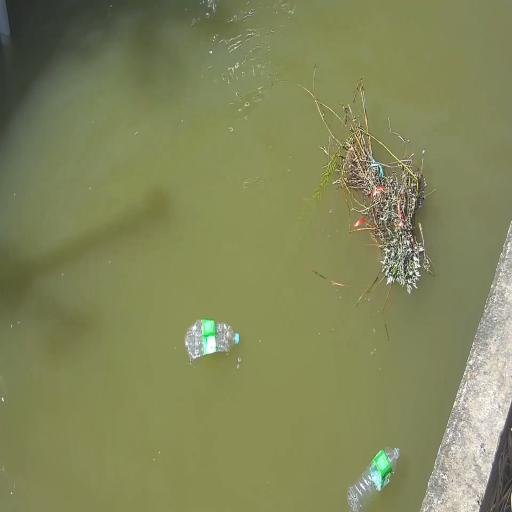plastic: (348, 448, 399, 511), (185, 320, 239, 361)
twig: (295, 64, 434, 311)
